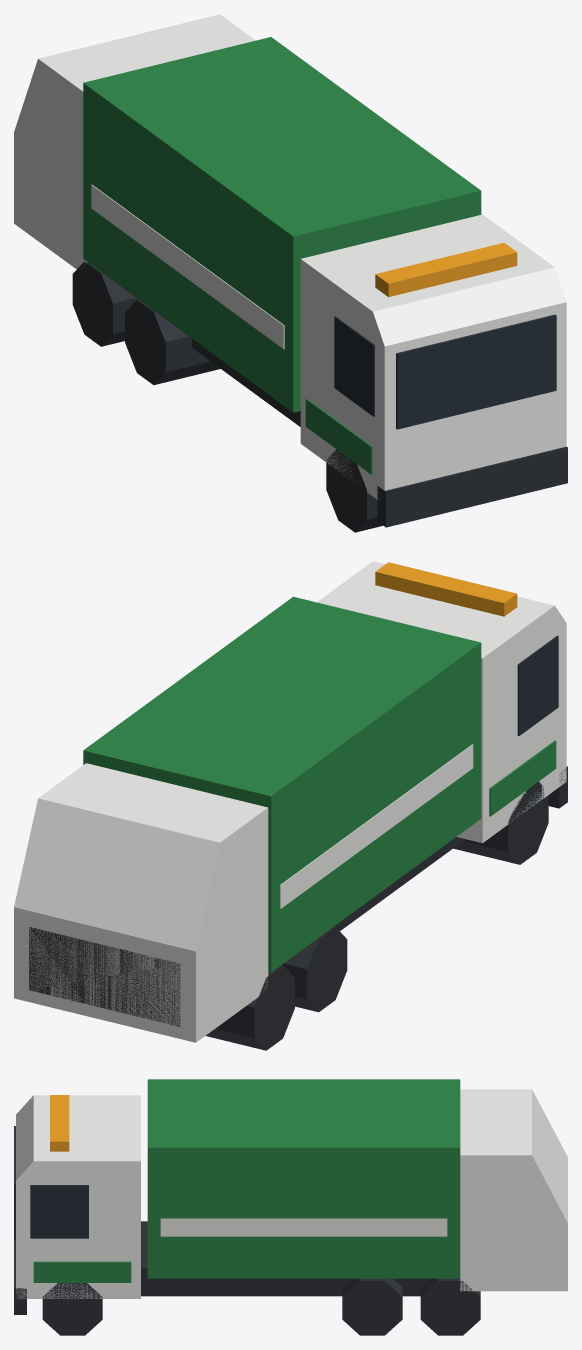
Rendered from garbagetruck.glb.
The picture shows the model from 3 angles, top to bottom: view 1: azimuth 30°, elevation 25°; view 2: azimuth 150°, elevation 25°; view 3: azimuth 270°, elevation 25°; orthographic projection. The views are drawn at different scales.
Parts seen in each view (by area): view 1: paint, trim, dark, glass, lights; view 2: trim, paint, dark, lights, glass; view 3: paint, trim, dark, glass, lights.
Part boxes in pixels (x1=…): paint: x1=83, y1=37, x2=481, y2=474; trim: x1=14, y1=14, x2=566, y2=499; dark: x1=72, y1=261, x2=567, y2=532; glass: x1=334, y1=314, x2=556, y2=429; lights: x1=375, y1=243, x2=517, y2=297; trim: x1=14, y1=561, x2=566, y2=1042; paint: x1=83, y1=596, x2=556, y2=972; dark: x1=29, y1=766, x2=567, y2=1050; lights: x1=375, y1=562, x2=517, y2=616; glass: x1=517, y1=635, x2=558, y2=735; paint: x1=33, y1=1079, x2=460, y2=1282; trim: x1=16, y1=1089, x2=567, y2=1298; dark: x1=14, y1=1221, x2=480, y2=1335; glass: x1=14, y1=1126, x2=88, y2=1239; lights: x1=50, y1=1095, x2=69, y2=1151.
Bounding box in the file's own units: 2.5 × 3.2 × 8.5.
